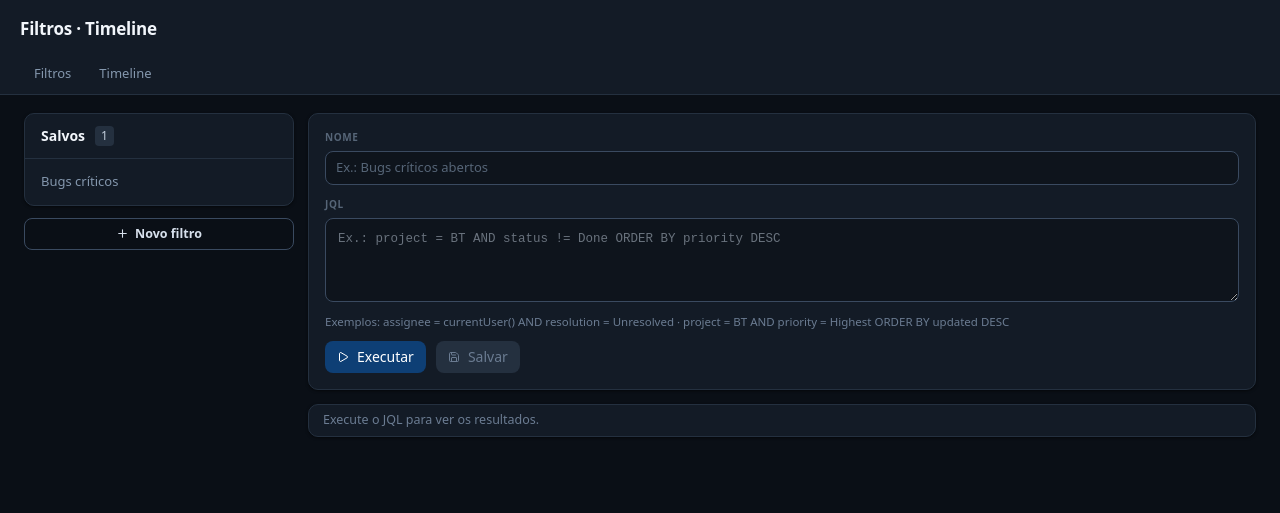
Test case: Filters › o filtro ativo destaca a linha e só ele mostra lápis e lixeira
Step 1. Click the button "Bugs críticos" → (159,182), box 41,172 -> 277,192
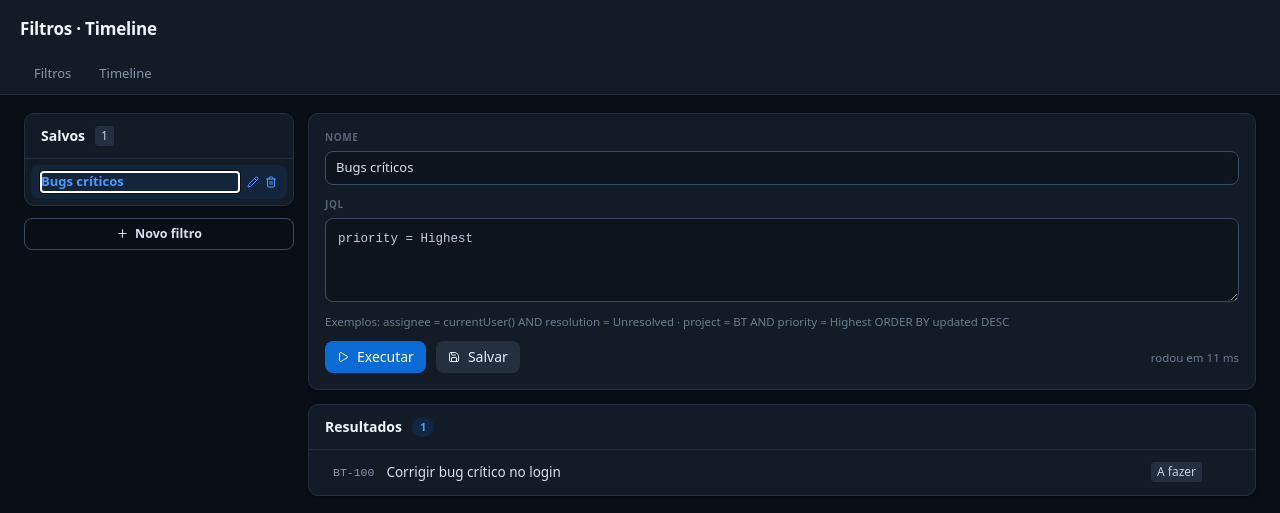
Now the button titled "Editar" is shown, box 247,176 -> 259,188
Now the button titled "Excluir" is shown, box 265,176 -> 277,188
